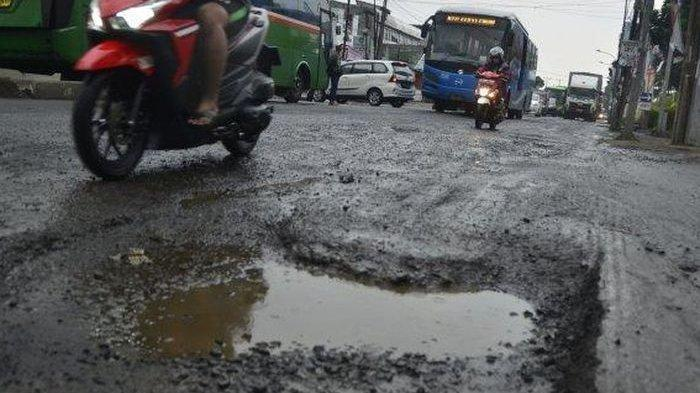Pothole: (53, 208, 700, 393)
